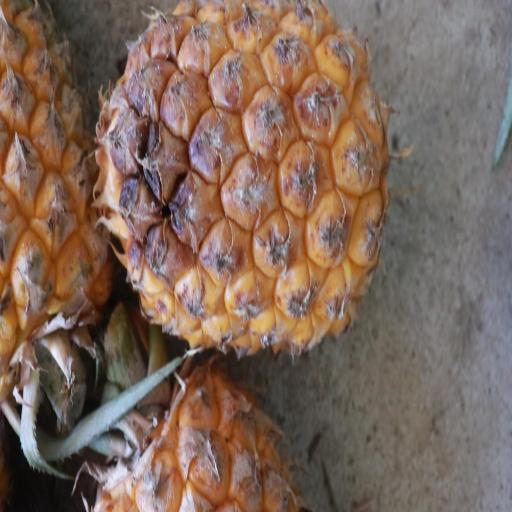Pineapple - v8 v1: (93, 0, 401, 363)
